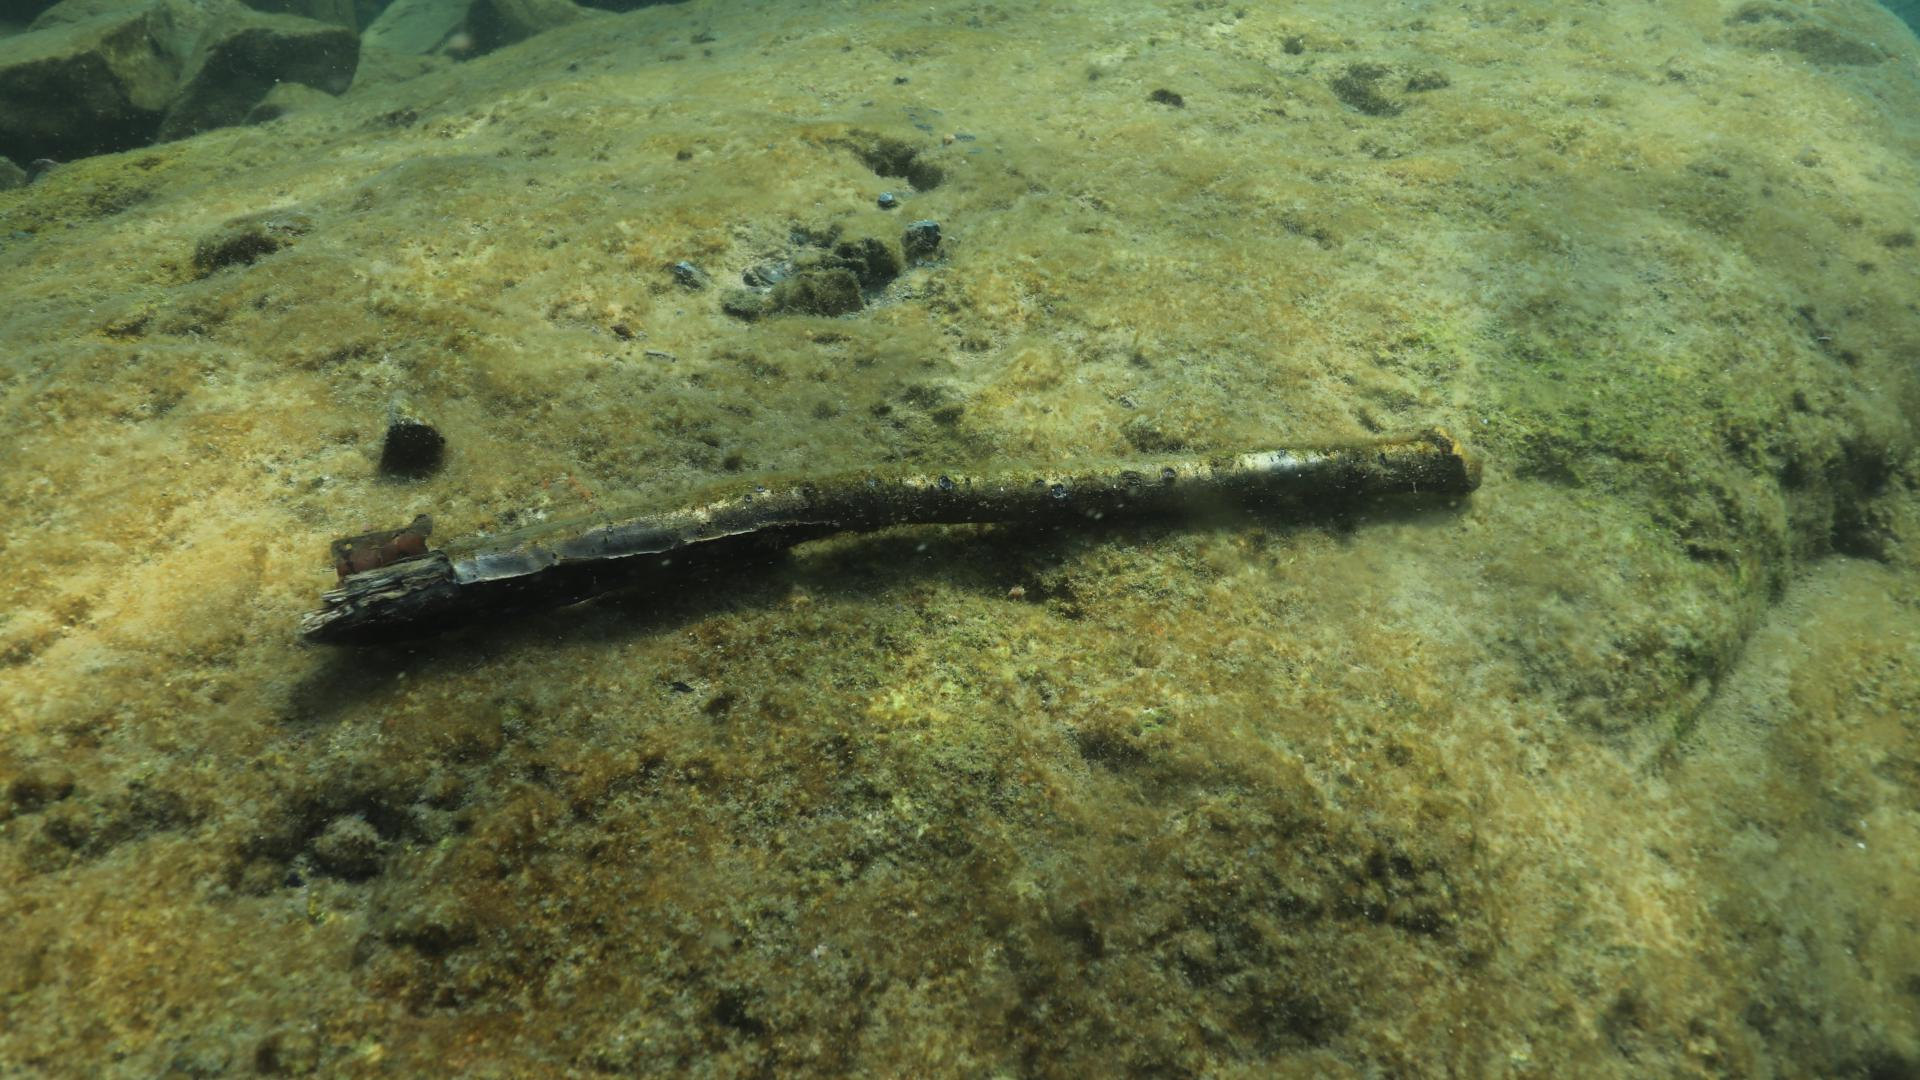wood: (294, 421, 1486, 642)
